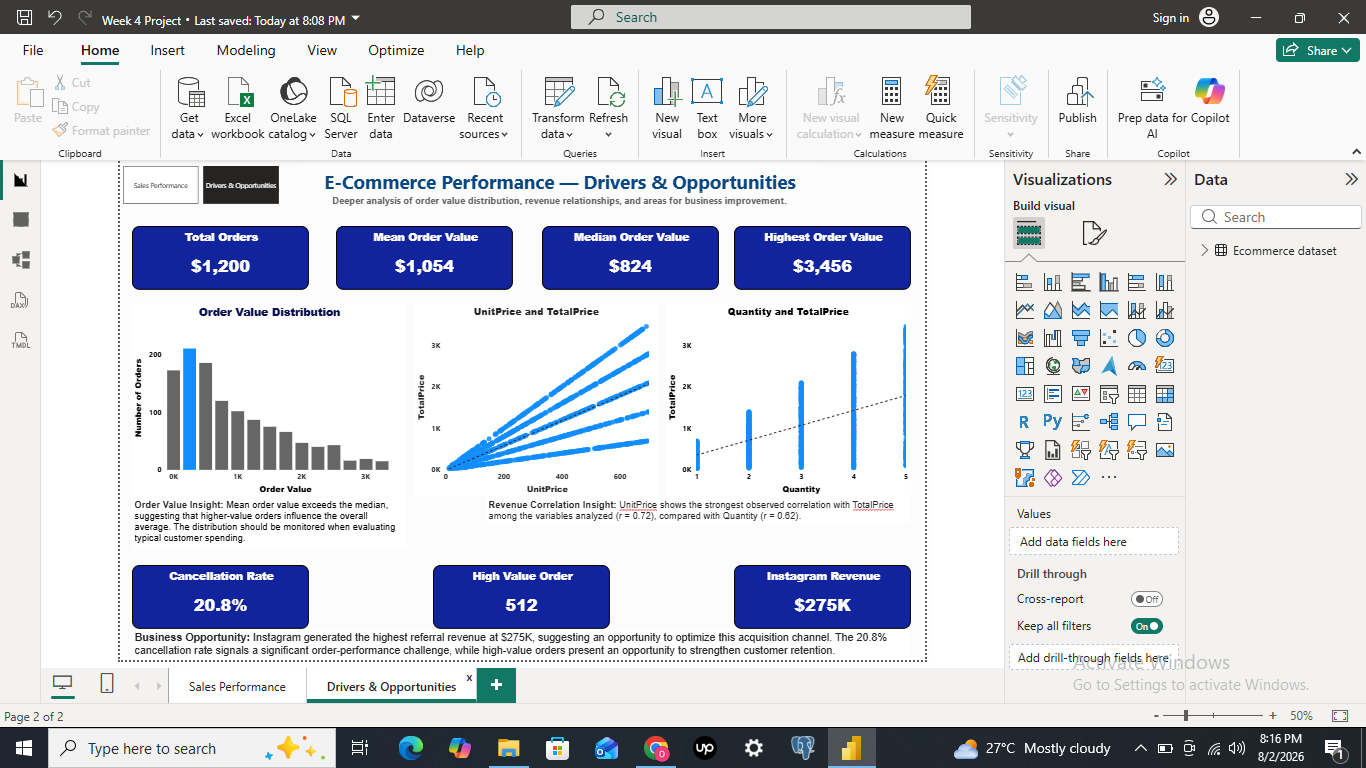

The dashboard page shown, as its layout file describes it:
{"tool":"powerbi","page":{"name":"Drivers & Opportunities","canvas":[1600,995],"ordinal":1},"visuals":[{"type":"textbox","box":[352.2,11.9,1046.7,75.6],"z":0},{"type":"textbox","box":[380.1,61.7,989,51.7],"z":1000},{"type":"card","title":"Total Orders","fields":{"Values":["Count(Ecommerce dataset.OrderID)"]},"box":[23.9,131.3,352.2,127.4],"z":2000},{"type":"card","title":"Mean Order Value","fields":{"Values":["Avg(Ecommerce dataset.TotalPrice)"]},"box":[429.8,131.3,352.2,127.4],"z":3000},{"type":"card","title":"Median Order Value","fields":{"Values":["Ecommerce dataset.Median Order Value"]},"box":[839.8,131.3,352.2,127.4],"z":4000},{"type":"card","title":"Highest Order Value","fields":{"Values":["Max(Ecommerce dataset.TotalPrice)"]},"box":[1221.9,131.3,352.2,127.4],"z":5000},{"type":"clusteredColumnChart","title":"Order Value Distribution","fields":{"Category":["Ecommerce dataset.TotalPrice (bins)"],"Y":["CountNonNull(Ecommerce dataset.OrderID)"]},"box":[23.9,286.6,547.2,384.1],"z":6000},{"type":"scatterChart","fields":{"Y":["Ecommerce dataset.TotalPrice"],"X":["Ecommerce dataset.UnitPrice"]},"box":[587.1,286.6,483.6,384.1],"z":7000},{"type":"scatterChart","fields":{"X":["Ecommerce dataset.Quantity"],"Y":["Ecommerce dataset.TotalPrice"]},"box":[1086.5,286.6,487.6,384.1],"z":8000},{"type":"card","title":"Cancellation Rate","fields":{"Values":["Ecommerce dataset.Cancellation Rate"]},"box":[23.9,806,352.2,127.4],"z":9000},{"type":"card","title":"High Value Order","fields":{"Values":["Ecommerce dataset.High Value Orders"]},"box":[622.9,806,352.2,127.4],"z":10000},{"type":"card","title":"Instagram Revenue","fields":{"Values":["Ecommerce dataset.Instagram Revenue"]},"box":[1221.9,806,352.2,127.4],"z":11000},{"type":"textbox","box":[23.9,670.6,547.2,107.5],"z":12000},{"type":"textbox","box":[728.3,670.6,845.8,53.7],"z":13000},{"type":"textbox","box":[23.9,933.3,1550.2,61.7],"z":14000},{"type":"pageNavigator","box":[6,11.9,310.4,75.6],"z":15000}]}

Visuals, with their boxes on the page's 1600x995 design canvas (x1, y1, x2, y2). These are canvas units, not pixel positions in the 1366x768 screenshot, which may show the page scaled, cropped or inside an application window:
textbox: <region>352, 12, 1399, 88</region>
textbox: <region>380, 62, 1369, 113</region>
"Total Orders" card: <region>24, 131, 376, 259</region>
"Mean Order Value" card: <region>430, 131, 782, 259</region>
"Median Order Value" card: <region>840, 131, 1192, 259</region>
"Highest Order Value" card: <region>1222, 131, 1574, 259</region>
"Order Value Distribution" clusteredColumnChart: <region>24, 287, 571, 671</region>
scatterChart - Ecommerce dataset.TotalPrice x Ecommerce dataset.UnitPrice: <region>587, 287, 1071, 671</region>
scatterChart - Ecommerce dataset.Quantity x Ecommerce dataset.TotalPrice: <region>1086, 287, 1574, 671</region>
"Cancellation Rate" card: <region>24, 806, 376, 933</region>
"High Value Order" card: <region>623, 806, 975, 933</region>
"Instagram Revenue" card: <region>1222, 806, 1574, 933</region>
textbox: <region>24, 671, 571, 778</region>
textbox: <region>728, 671, 1574, 724</region>
textbox: <region>24, 933, 1574, 995</region>
pageNavigator: <region>6, 12, 316, 88</region>
